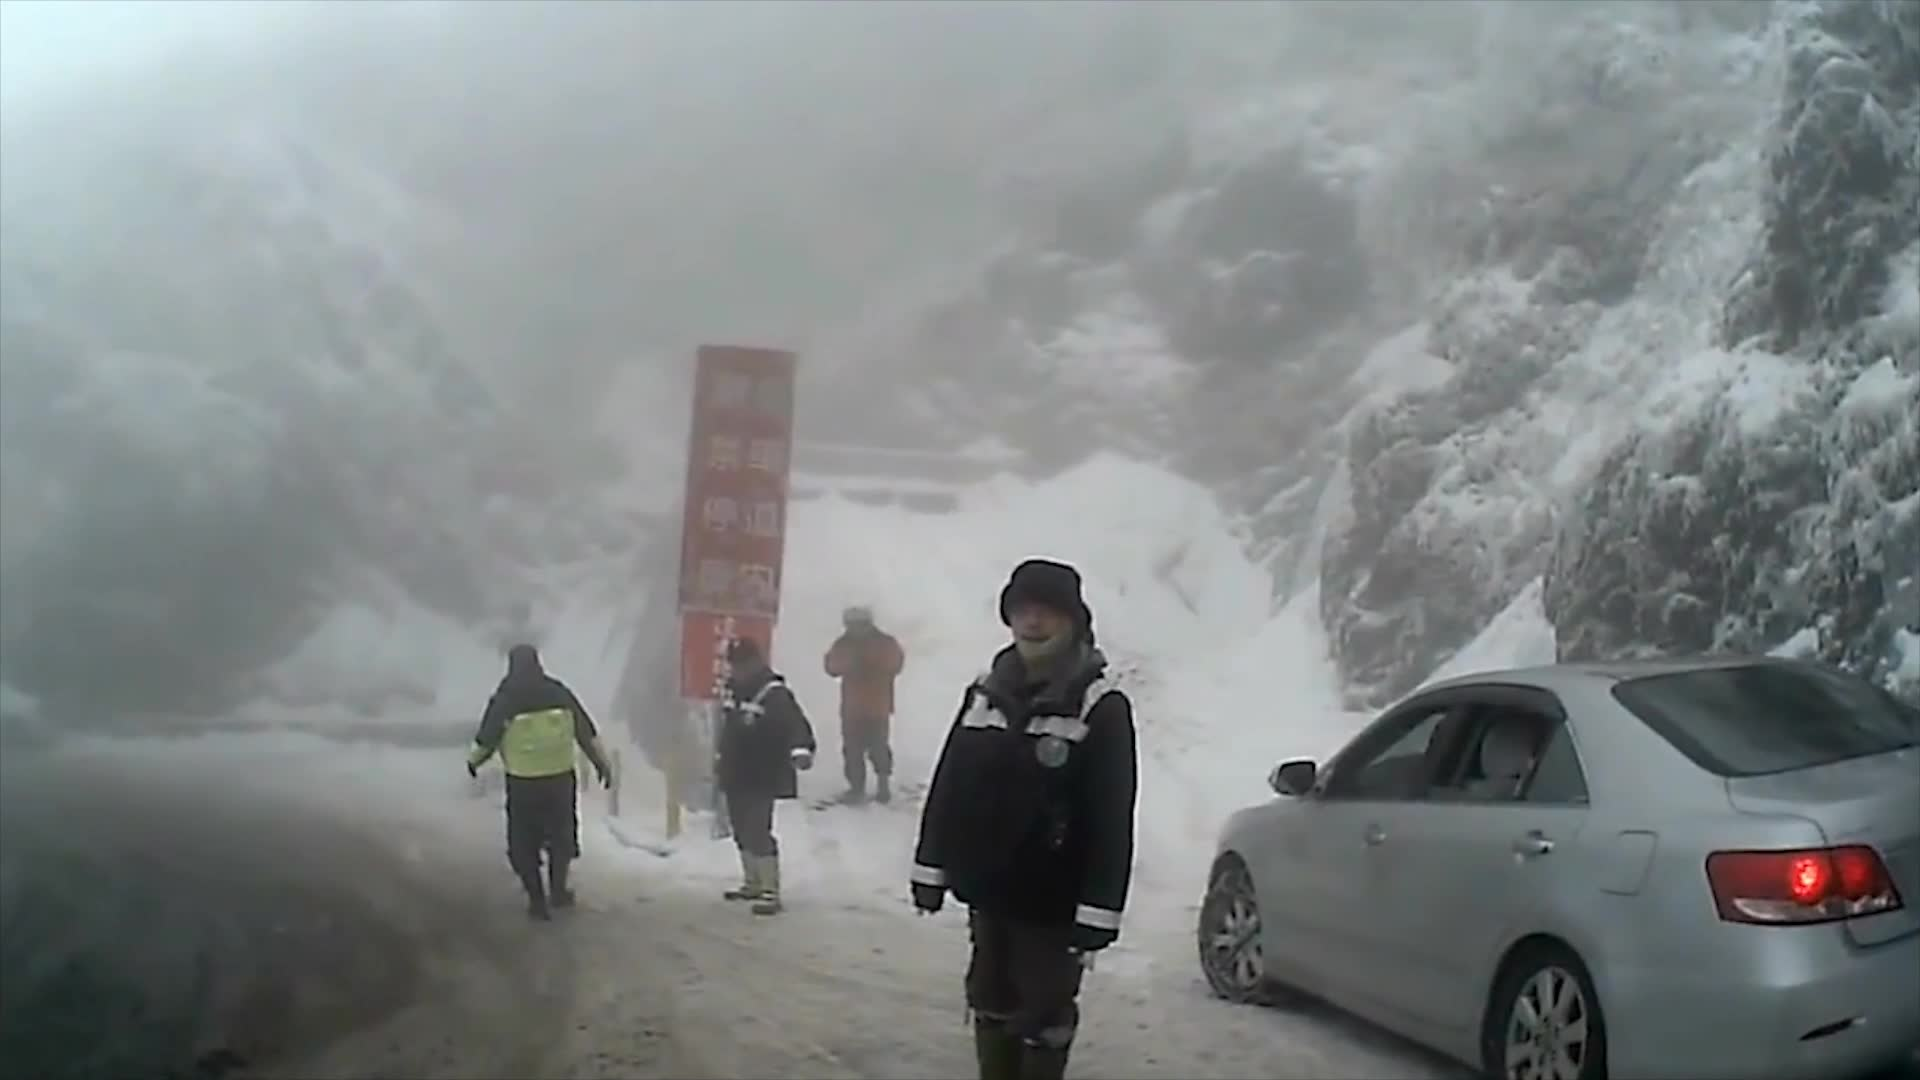pedestrian: (903, 560, 1139, 1080), (465, 651, 615, 925), (714, 640, 821, 912), (828, 608, 912, 807)
vehicle: (1196, 657, 1920, 1080)
